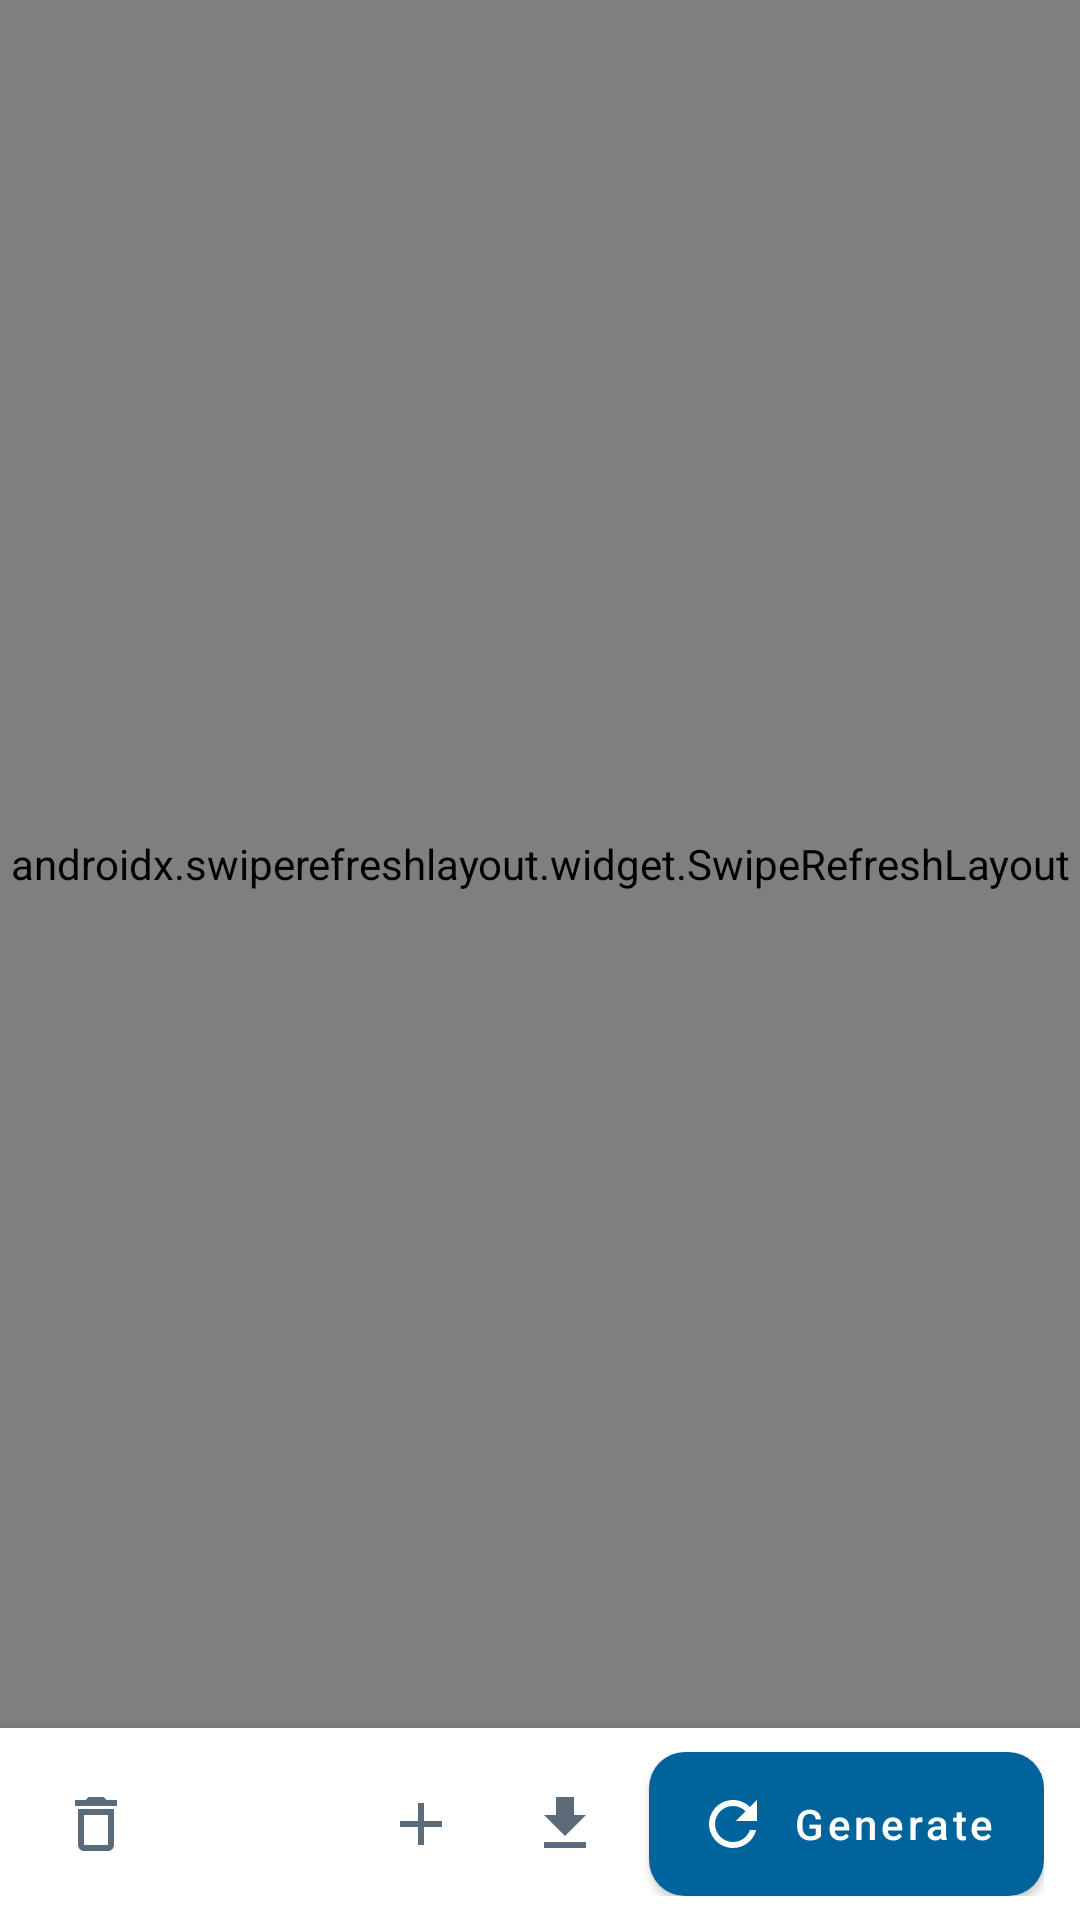

Point at icon controls on the screen. Image size 1080 x 1920, points as [x,y].
Add password: [421,1824]
Clear passwords: [96,1824]
Export passwords: [565,1822]
